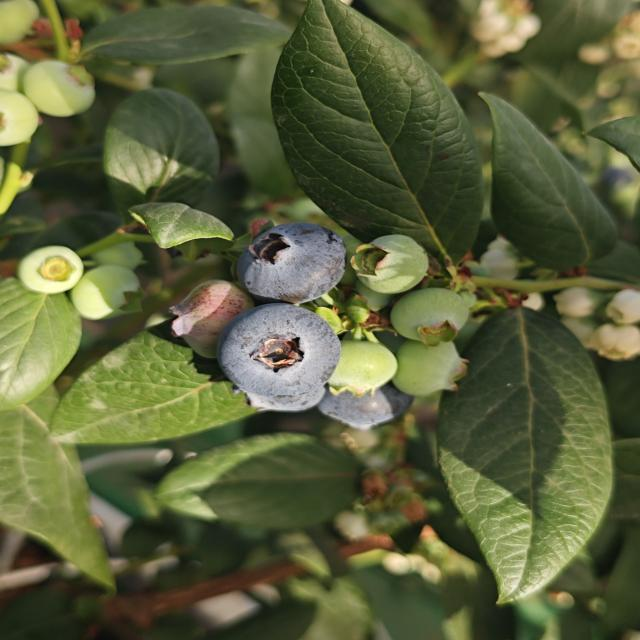ripe: (214, 300, 340, 404), (227, 218, 352, 304), (336, 391, 391, 426)
